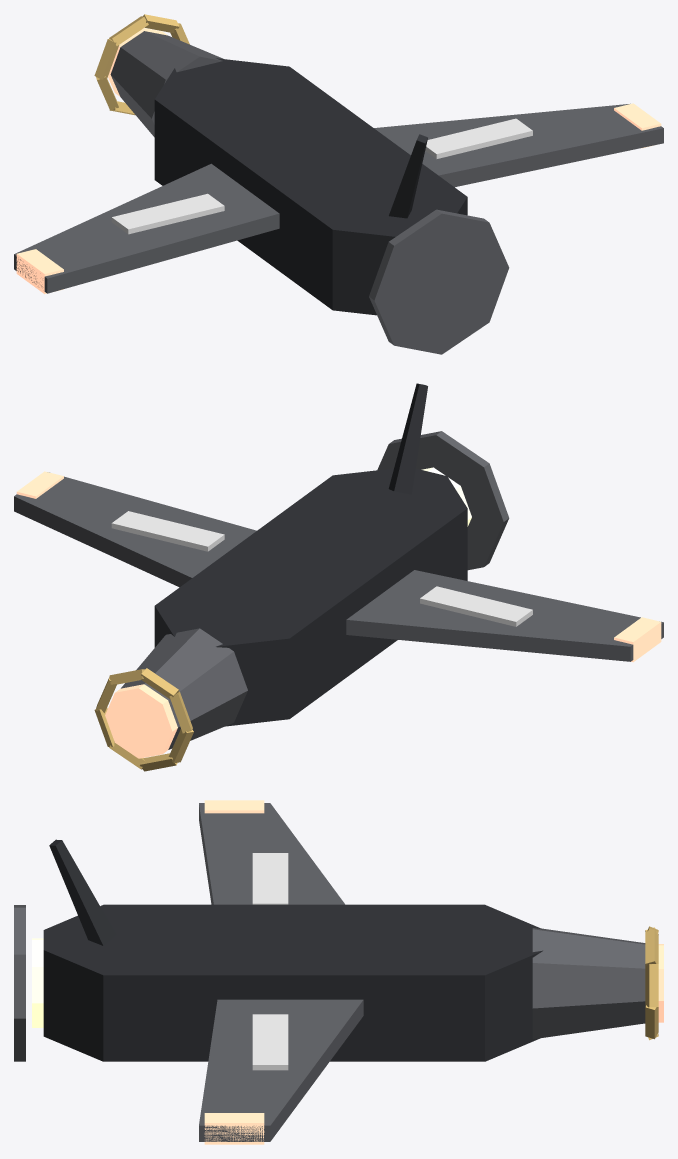
File: Aegis_Spotter.fbx
3 renders of one model, top to bottom at view 1: azimuth 30°, elevation 25°; view 2: azimuth 150°, elevation 25°; view 3: azimuth 270°, elevation 25°, orthographic. The views are drawn at different scales.
Visible parts, largest first — view 1: SPT_Fuselage, SPT_Prop, SPT_Wing-1, SPT_Wing1, SPT_Nose, SPT_Team-1, SPT_Team1, SPT_EyeRim, SPT_Fin, SPT_WingTip-1, SPT_WingTip1; view 2: SPT_Fuselage, SPT_Wing-1, SPT_Wing1, SPT_Nose, SPT_Prop, SPT_Eye, SPT_EyeRim, SPT_Team1, SPT_Team-1, SPT_Fin, SPT_WingTip-1, SPT_WingTip1; view 3: SPT_Fuselage, SPT_Wing1, SPT_Nose, SPT_Wing-1, SPT_Fin, SPT_Team1, SPT_Team-1, SPT_Prop, SPT_WingTip1, SPT_EyeRim, SPT_PropGlow, SPT_WingTip-1.
Part boxes in pixels (box(x1,y1,x2,y2)): SPT_Fuselage: box(154, 58, 467, 315); SPT_Prop: box(369, 209, 509, 354); SPT_Wing-1: box(14, 163, 279, 293); SPT_Wing1: box(374, 103, 663, 187); SPT_Nose: box(110, 31, 223, 137); SPT_Team-1: box(111, 193, 224, 234); SPT_Team1: box(425, 118, 532, 158); SPT_EyeRim: box(94, 14, 189, 115); SPT_Fin: box(389, 134, 427, 218); SPT_WingTip-1: box(16, 249, 63, 294); SPT_WingTip1: box(614, 103, 661, 148); SPT_Fuselage: box(154, 468, 467, 726); SPT_Wing-1: box(346, 570, 663, 661); SPT_Wing1: box(14, 472, 256, 587); SPT_Nose: box(121, 628, 247, 749); SPT_Prop: box(377, 431, 509, 570); SPT_Eye: box(105, 684, 177, 758); SPT_EyeRim: box(94, 668, 193, 771); SPT_Team1: box(111, 511, 224, 551); SPT_Team-1: box(420, 586, 532, 626); SPT_Fin: box(388, 383, 427, 494); SPT_WingTip-1: box(614, 617, 661, 662); SPT_WingTip1: box(16, 471, 63, 498); SPT_Fuselage: box(43, 904, 542, 1061); SPT_Wing1: box(199, 999, 363, 1141); SPT_Nose: box(532, 928, 645, 1039); SPT_Wing-1: box(199, 803, 344, 904); SPT_Fin: box(49, 839, 116, 945); SPT_Team1: box(252, 1014, 288, 1070); SPT_Team-1: box(252, 853, 288, 904); SPT_Prop: box(14, 905, 25, 1061); SPT_WingTip1: box(204, 1113, 264, 1144); SPT_EyeRim: box(645, 926, 658, 1040); SPT_PropGlow: box(32, 938, 43, 1027); SPT_WingTip-1: box(204, 800, 264, 813).
Size of the model in its own units: 0.64 by 0.2024 by 0.545.
